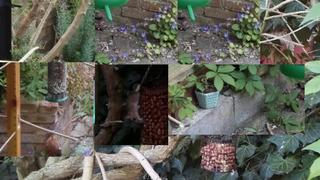mouse: (124, 91, 142, 124)
